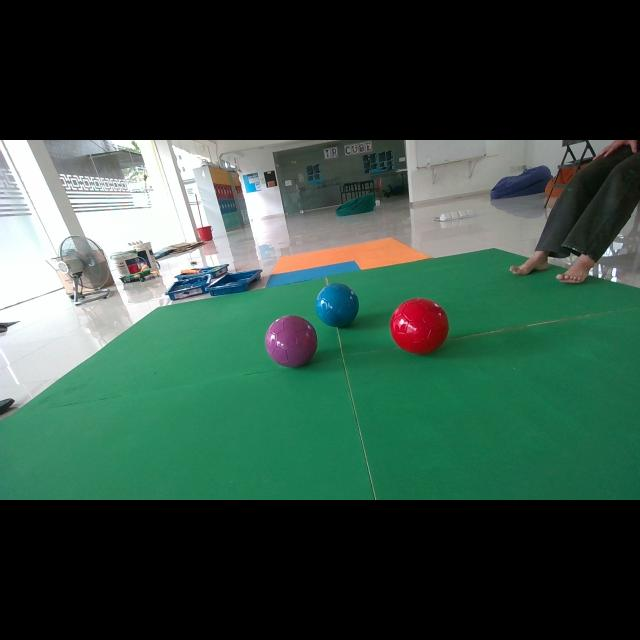B: (315, 284, 359, 328)
P: (265, 315, 318, 368)
R: (390, 298, 449, 354)
